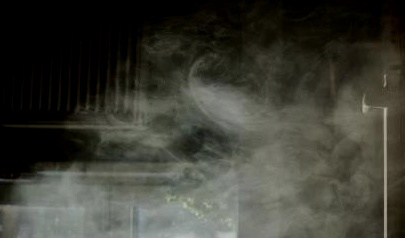smoke: (121, 69, 398, 235)
